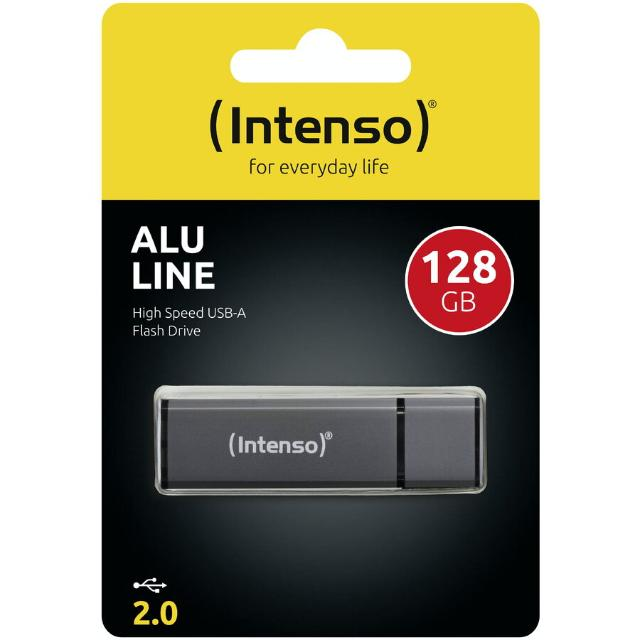USB-Flash-Drive: (149, 385, 488, 497)
